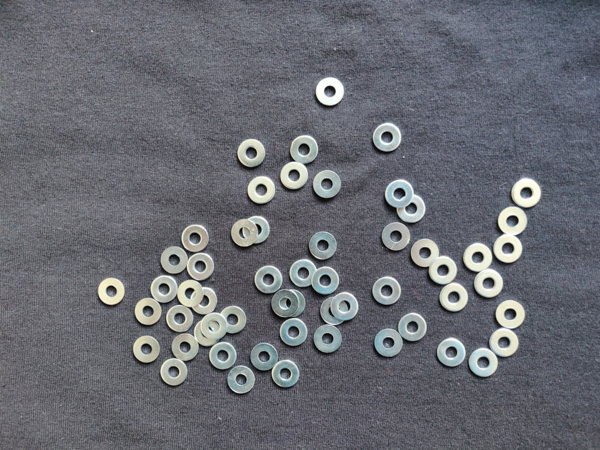circle: (493, 300, 530, 334), (489, 329, 525, 363), (492, 233, 528, 265), (159, 358, 192, 392), (433, 337, 467, 370), (465, 348, 500, 380), (496, 206, 533, 236), (512, 176, 543, 211), (227, 363, 259, 396), (439, 283, 472, 314), (473, 268, 504, 301), (314, 169, 345, 202), (462, 242, 493, 274), (288, 134, 320, 165), (246, 174, 278, 205), (382, 223, 415, 253), (373, 122, 404, 153), (373, 328, 405, 358), (308, 228, 338, 260), (397, 193, 429, 223), (383, 179, 415, 209), (130, 335, 163, 364), (311, 325, 344, 354), (398, 311, 428, 342), (277, 289, 307, 320), (314, 78, 345, 108), (270, 359, 300, 389), (331, 293, 361, 323), (411, 238, 440, 269), (250, 344, 280, 373), (428, 256, 458, 285), (182, 224, 211, 254), (98, 279, 128, 308), (133, 298, 164, 326), (279, 318, 308, 347), (270, 289, 299, 318), (289, 259, 318, 288), (150, 275, 179, 304), (279, 162, 308, 191), (170, 333, 200, 361), (321, 298, 351, 326), (161, 245, 188, 276), (245, 213, 272, 244), (194, 319, 222, 348), (312, 268, 340, 297), (255, 267, 284, 295), (191, 287, 219, 316), (166, 305, 194, 334), (236, 141, 266, 168), (209, 344, 237, 372), (372, 277, 400, 305), (230, 220, 257, 248), (221, 306, 247, 334), (187, 255, 215, 280), (178, 281, 204, 307), (202, 314, 227, 340)
